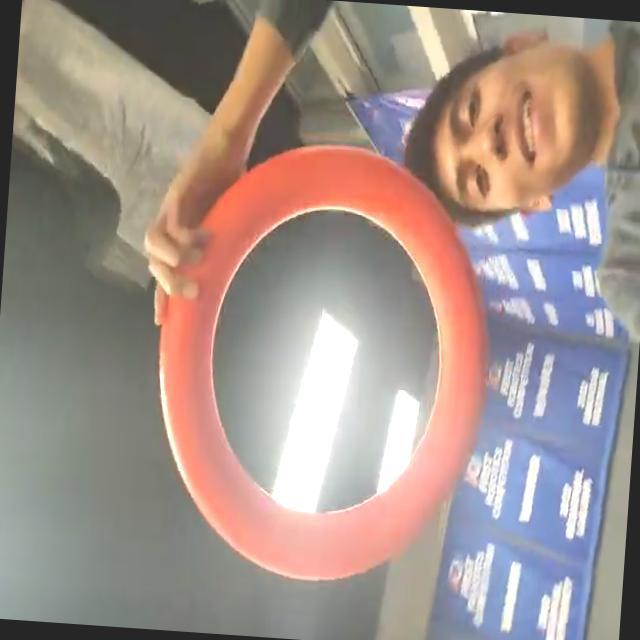note: (140, 128, 504, 597)
